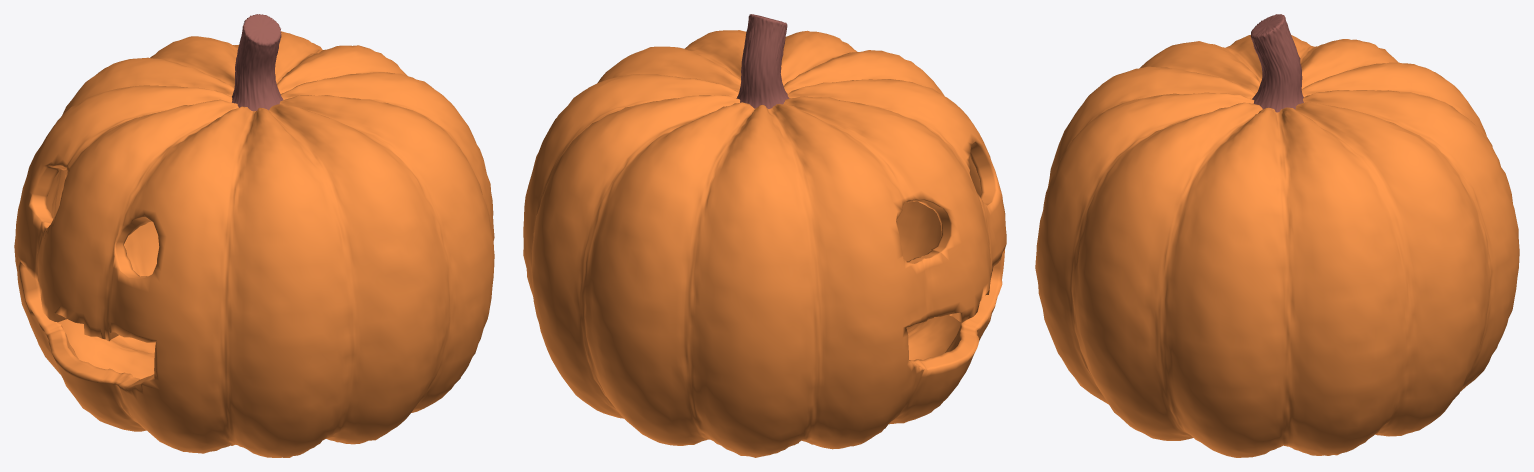
Rendered from pumpkin5K.fbx.
3 views of the same model, side by side, from view 1: azimuth 30°, elevation 25°; view 2: azimuth 150°, elevation 25°; view 3: azimuth 270°, elevation 25° (orthographic).
Visible parts, largest first — view 1: Sphere.002, Cylinder.001; view 2: Sphere.002, Cylinder.001; view 3: Sphere.002, Cylinder.001.
Boxes of the visible parts, x1,y1,x2,y2 form: Sphere.002: [14, 31, 494, 457]; Cylinder.001: [232, 14, 283, 111]; Sphere.002: [523, 30, 1006, 457]; Cylinder.001: [736, 14, 789, 108]; Sphere.002: [1035, 35, 1519, 457]; Cylinder.001: [1250, 14, 1303, 112].
Bounding box in the file's own units: 85.53 × 74.63 × 86.01.
